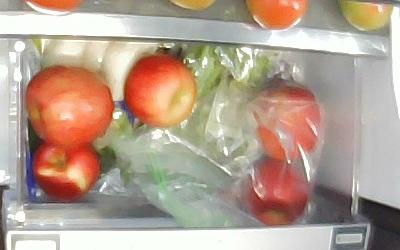apple: (25, 65, 114, 146), (124, 56, 197, 129), (33, 141, 101, 202)
apple_vinyl: (255, 86, 320, 161), (249, 159, 308, 226)
